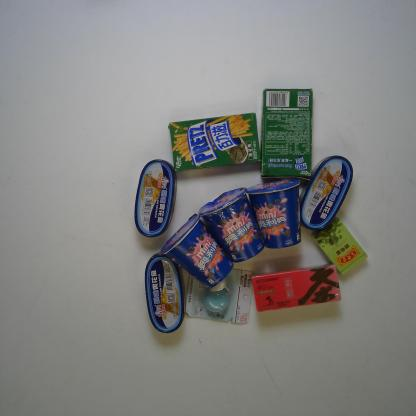Candy: (311, 217, 372, 277)
Canned Food: (298, 154, 354, 230), (133, 159, 178, 238), (144, 252, 185, 333)
Dessert: (167, 111, 262, 172), (159, 214, 233, 288), (198, 187, 264, 264), (260, 87, 314, 180), (246, 178, 302, 249)
Instant Drink: (249, 263, 342, 313)
Stationery: (186, 267, 254, 324)
